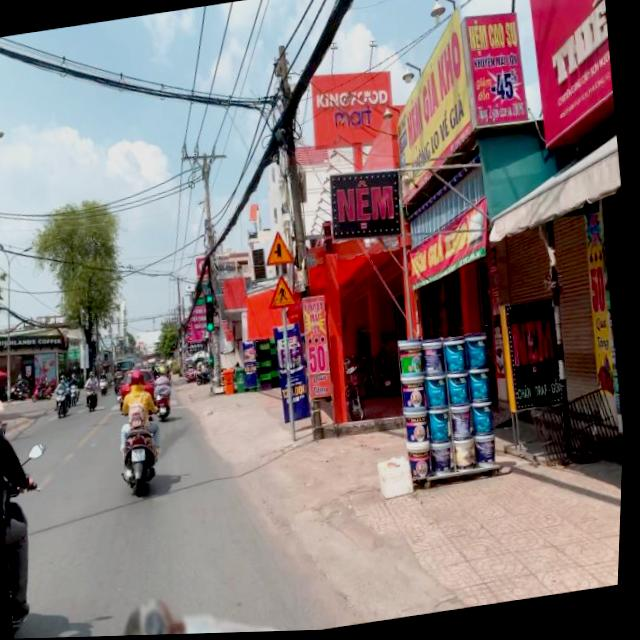Giao nhau voi duong khong uu tien ben trai: (261, 229, 299, 271)
Nguoi di bo cat ngang: (265, 272, 302, 314)
